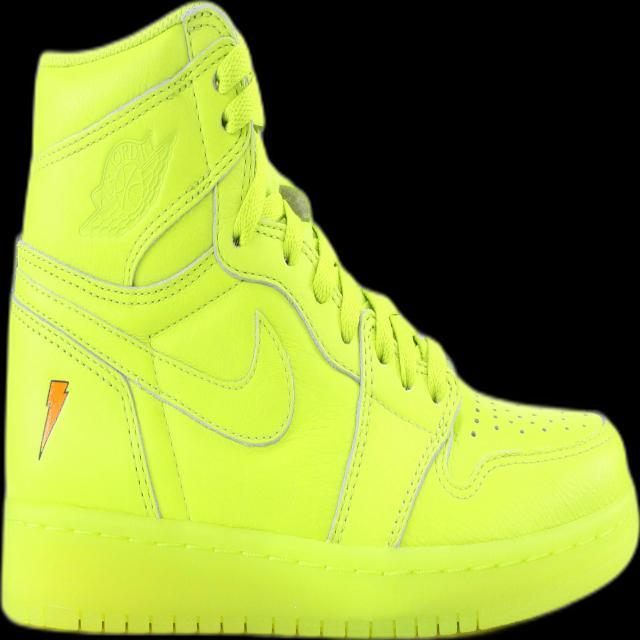J1_InsoleChar: (0, 0, 638, 638)
J1_ShoeLogo: (77, 127, 175, 238), (36, 378, 70, 460)
J1_StitchPattern: (14, 121, 459, 550), (225, 181, 456, 546), (11, 269, 190, 519), (324, 305, 459, 547), (118, 118, 260, 285), (43, 608, 484, 638), (325, 307, 377, 544), (383, 393, 461, 548), (111, 377, 163, 519)
